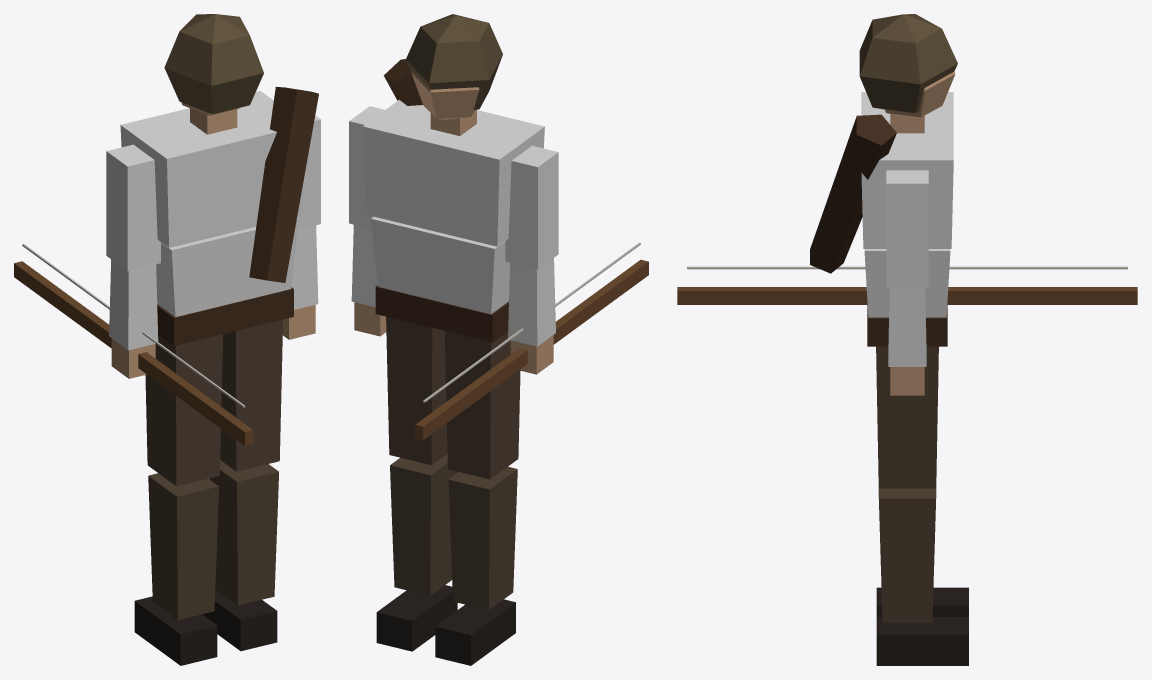
The model's file is soldier_med_archer_lod1.glb.
The picture shows the model from 3 angles, left to right: view 1: azimuth 30°, elevation 25°; view 2: azimuth 150°, elevation 25°; view 3: azimuth 270°, elevation 25°; orthographic projection. The views are drawn at different scales.
Visible parts, largest first — view 1: med_archer_lod1_static; view 2: med_archer_lod1_static; view 3: med_archer_lod1_static.
Boxes of the visible parts, left/top/right/bottom form: med_archer_lod1_static: left=14, top=14, right=320, bottom=665; med_archer_lod1_static: left=349, top=14, right=648, bottom=665; med_archer_lod1_static: left=677, top=14, right=1137, bottom=665.
Bounding box in the file's own units: 0.58 × 1.81 × 1.2.
